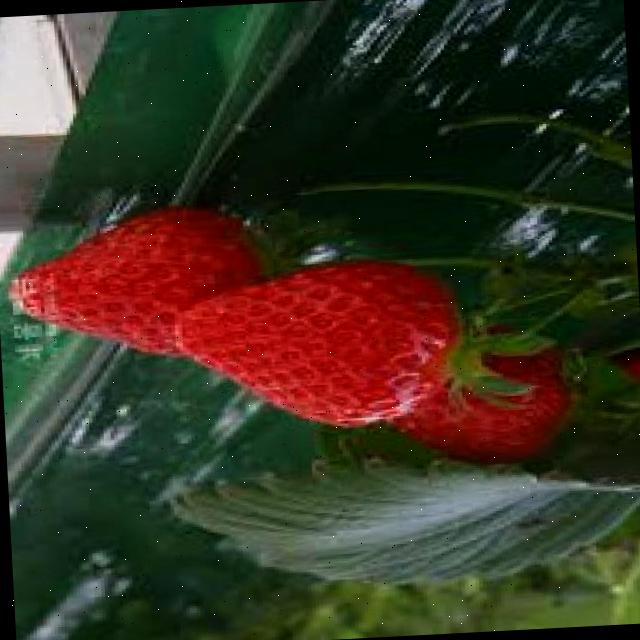strawberry: (168, 255, 460, 438), (5, 202, 272, 361)
